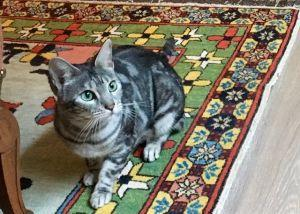bengal: (44, 37, 129, 128)
